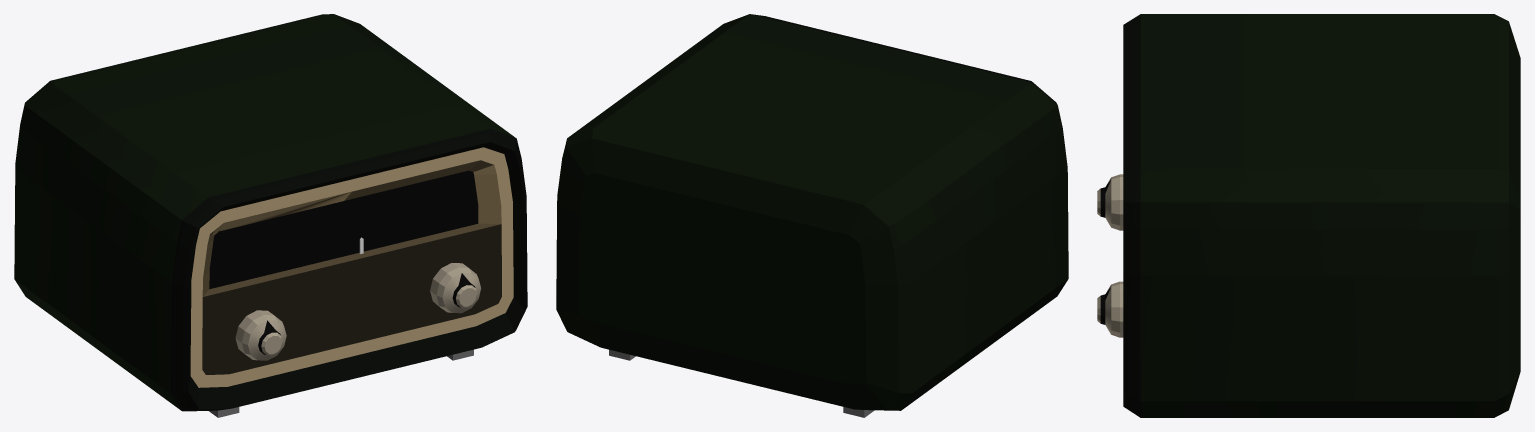
The model's file is RadioInteract.fbx.
3 renders of one model, left to right at view 1: azimuth 30°, elevation 25°; view 2: azimuth 150°, elevation 25°; view 3: azimuth 270°, elevation 25°, orthographic. The views are drawn at different scales.
Visible parts, largest first — view 1: Radio, Wheel2, Wheel1; view 2: Radio; view 3: Radio, Wheel1, Wheel2.
Part boxes in pixels (box(x1,y1,x2,y2)): Radio: box(14, 14, 527, 417); Wheel2: box(235, 310, 286, 360); Wheel1: box(430, 263, 481, 313); Radio: box(556, 14, 1068, 417); Radio: box(1123, 14, 1520, 417); Wheel1: box(1097, 281, 1123, 337); Wheel2: box(1097, 174, 1123, 230).
Size of the model in its own units: 45.12 by 27.3 by 41.1.
